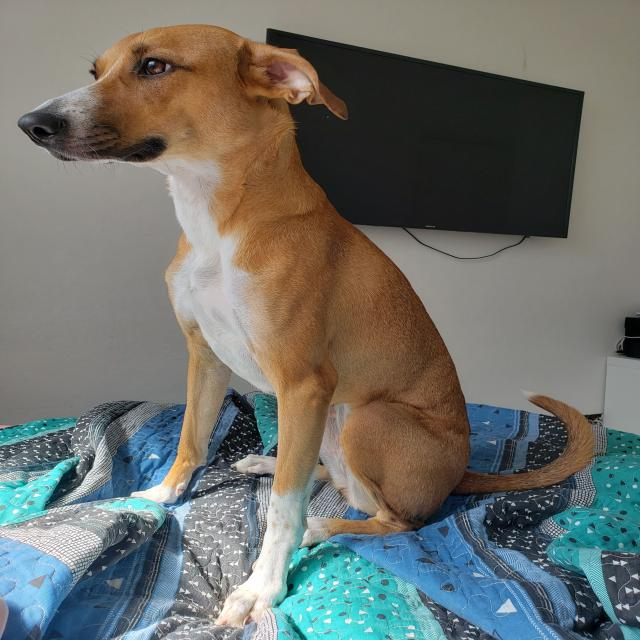sitting: (10, 22, 612, 630)
